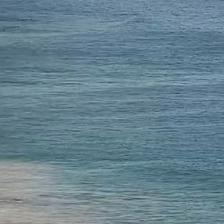surfer: (20, 18, 28, 21)
